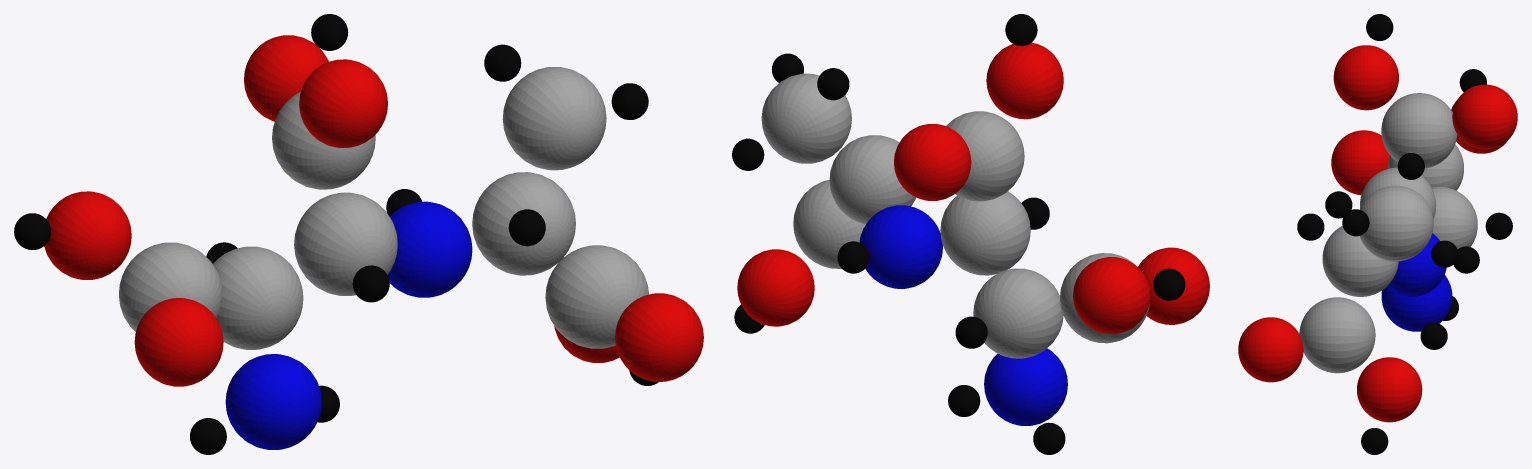
File: Insulin.glb
3 views of the same model, side by side, from view 1: azimuth 30°, elevation 25°; view 2: azimuth 150°, elevation 25°; view 3: azimuth 270°, elevation 25° (orthographic). The views are drawn at different scales.
Parts seen in each view (by area): view 1: world; view 2: world; view 3: world.
Part boxes in pixels (x1,y1,x2,y2): world: (14,14,703,454); world: (732,14,1209,454); world: (1238,14,1517,454).
Size of the model in its own units: 9.03 by 6.72 by 5.13.
